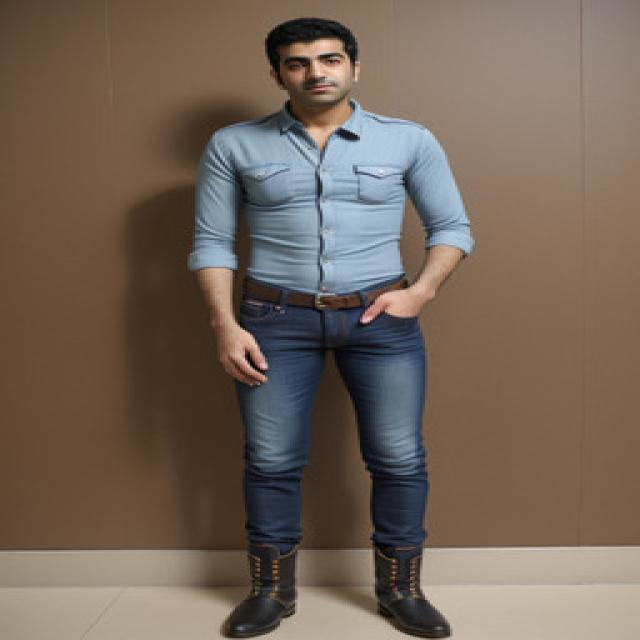Ai human 2: (171, 6, 500, 640)
